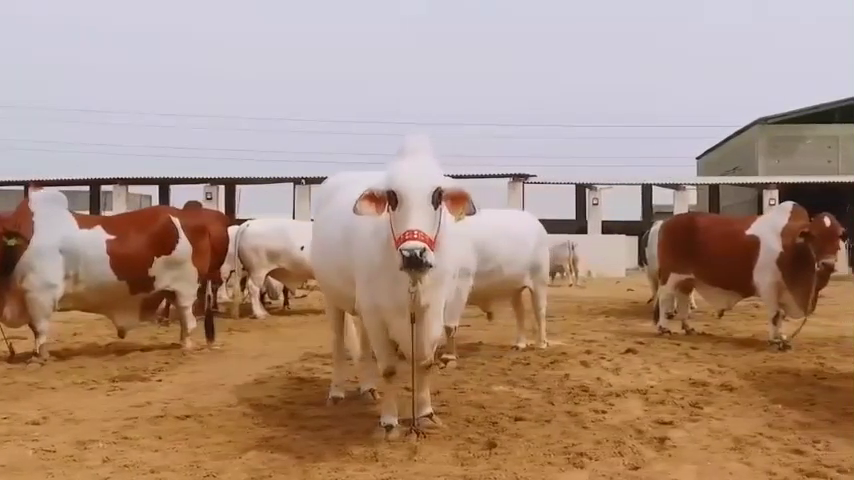bo: (305, 119, 453, 443), (2, 181, 221, 364), (644, 182, 844, 357), (454, 198, 554, 352), (226, 208, 315, 327)
